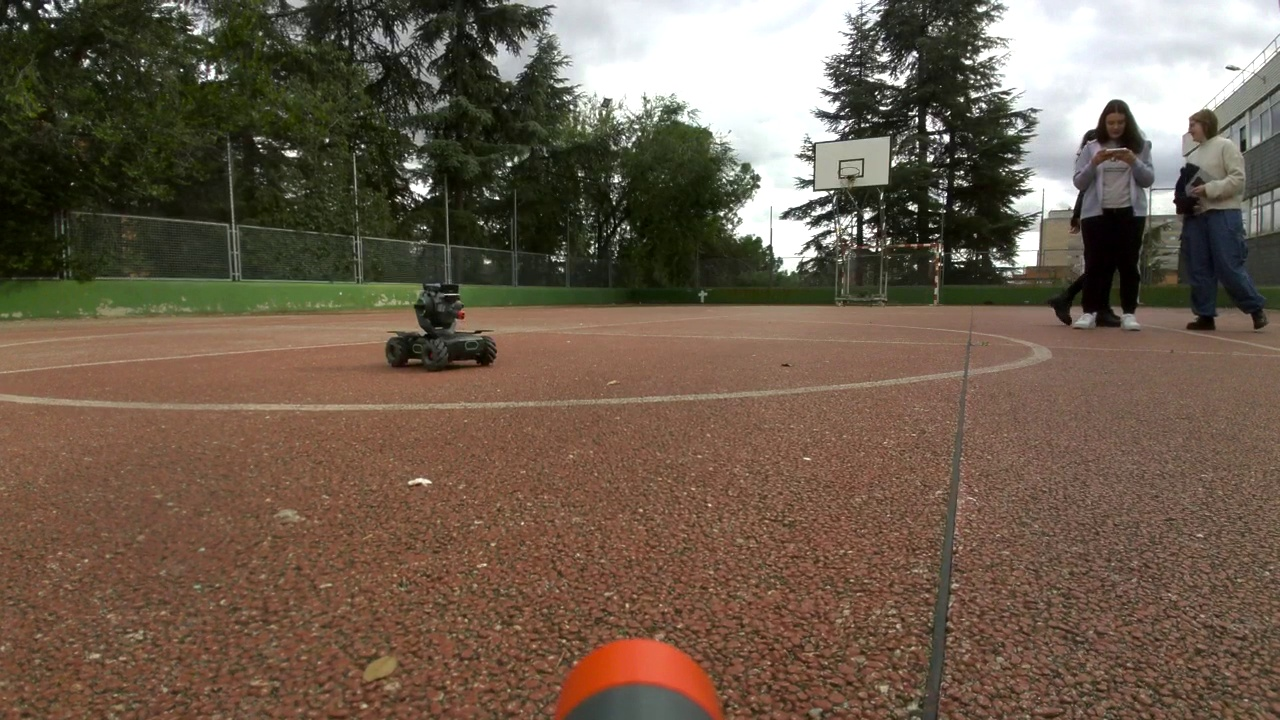robot: (385, 283, 498, 370)
